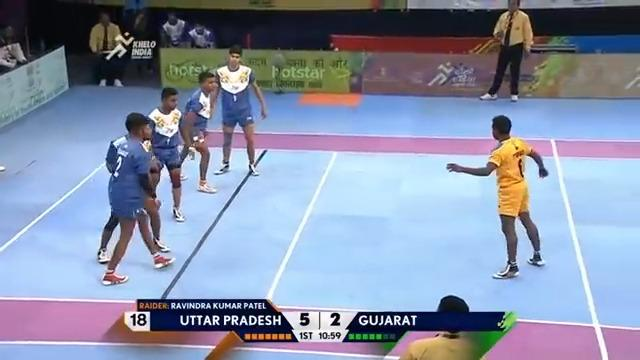Player: (111, 124, 173, 273), (207, 44, 269, 177), (154, 95, 188, 231), (185, 67, 218, 190)
Raider: (445, 112, 550, 280)
referee: (476, 0, 534, 102), (398, 294, 481, 359), (88, 9, 124, 86)
